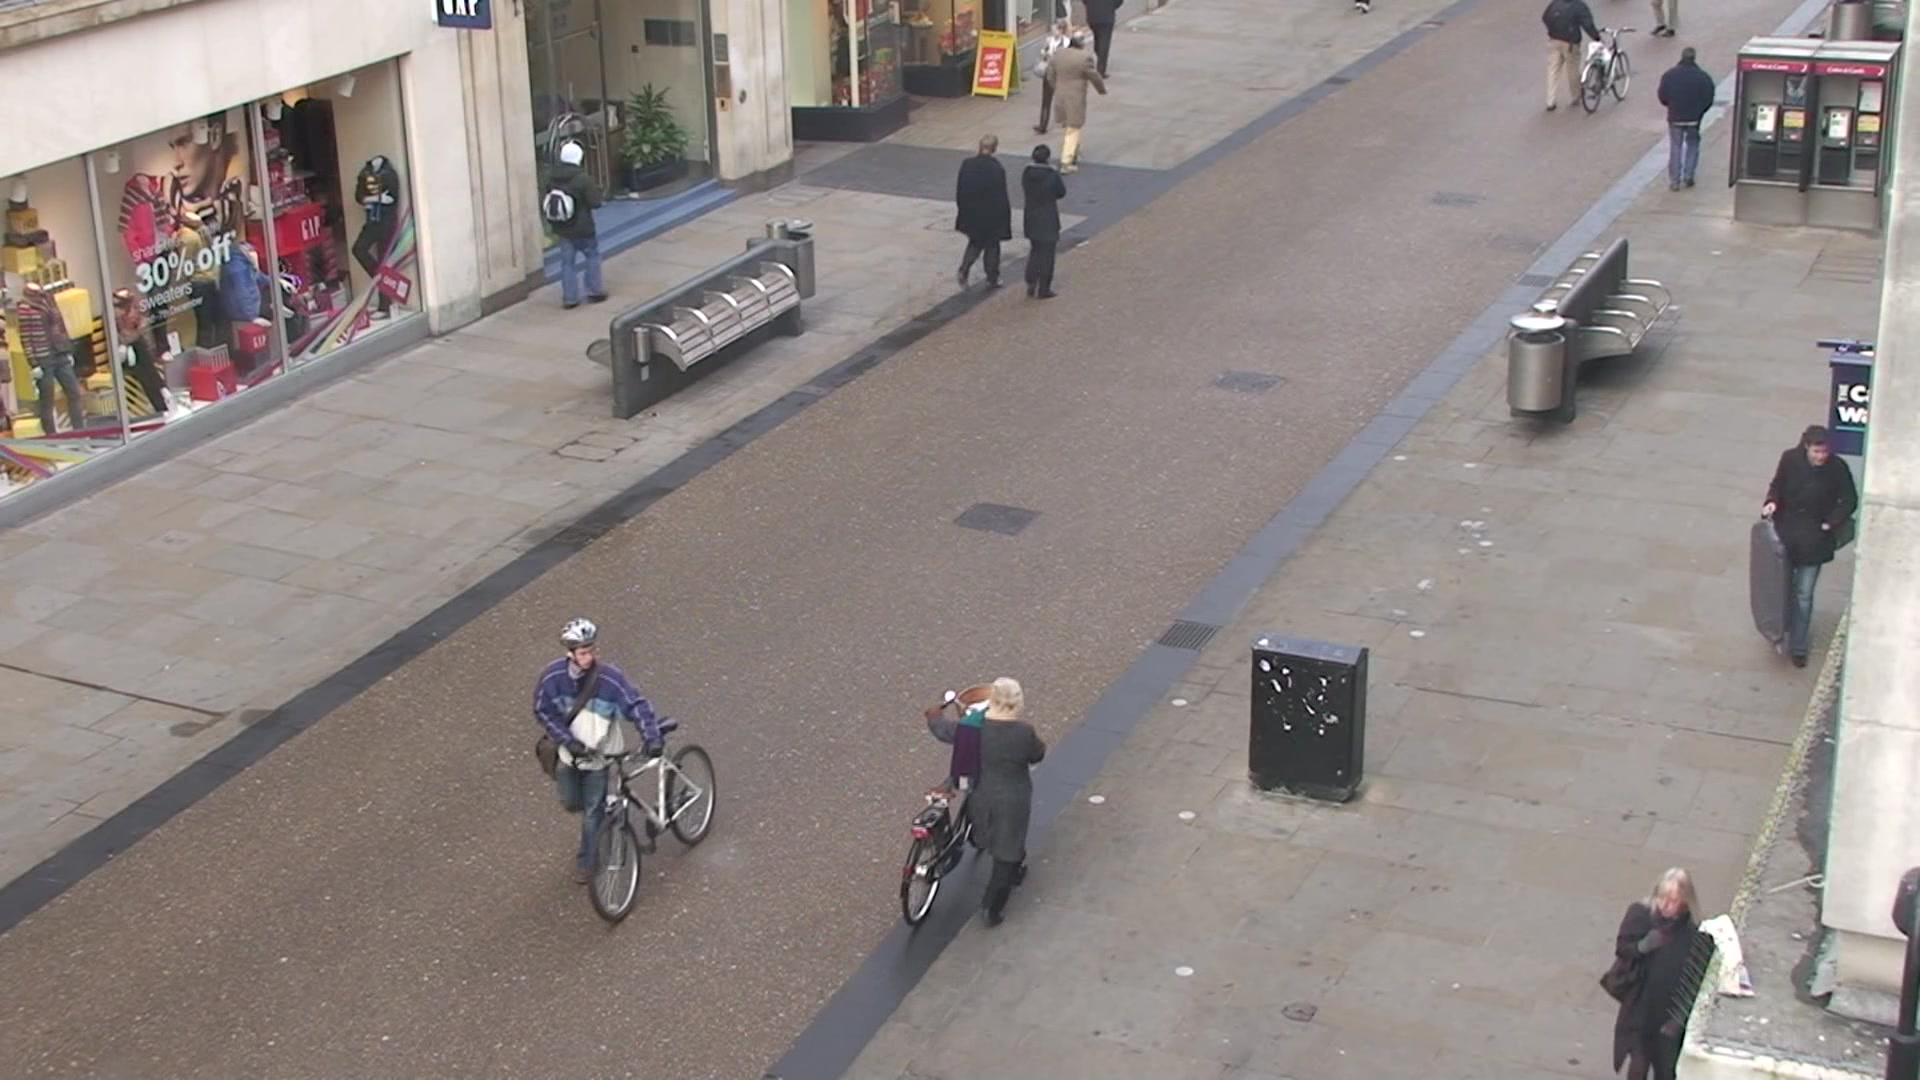person: (530, 616, 664, 890), (924, 677, 1047, 931), (1598, 867, 1714, 1080), (1760, 424, 1856, 671), (539, 140, 610, 313), (952, 133, 1013, 295), (1045, 33, 1107, 170), (1657, 48, 1715, 193), (1020, 143, 1068, 302)
